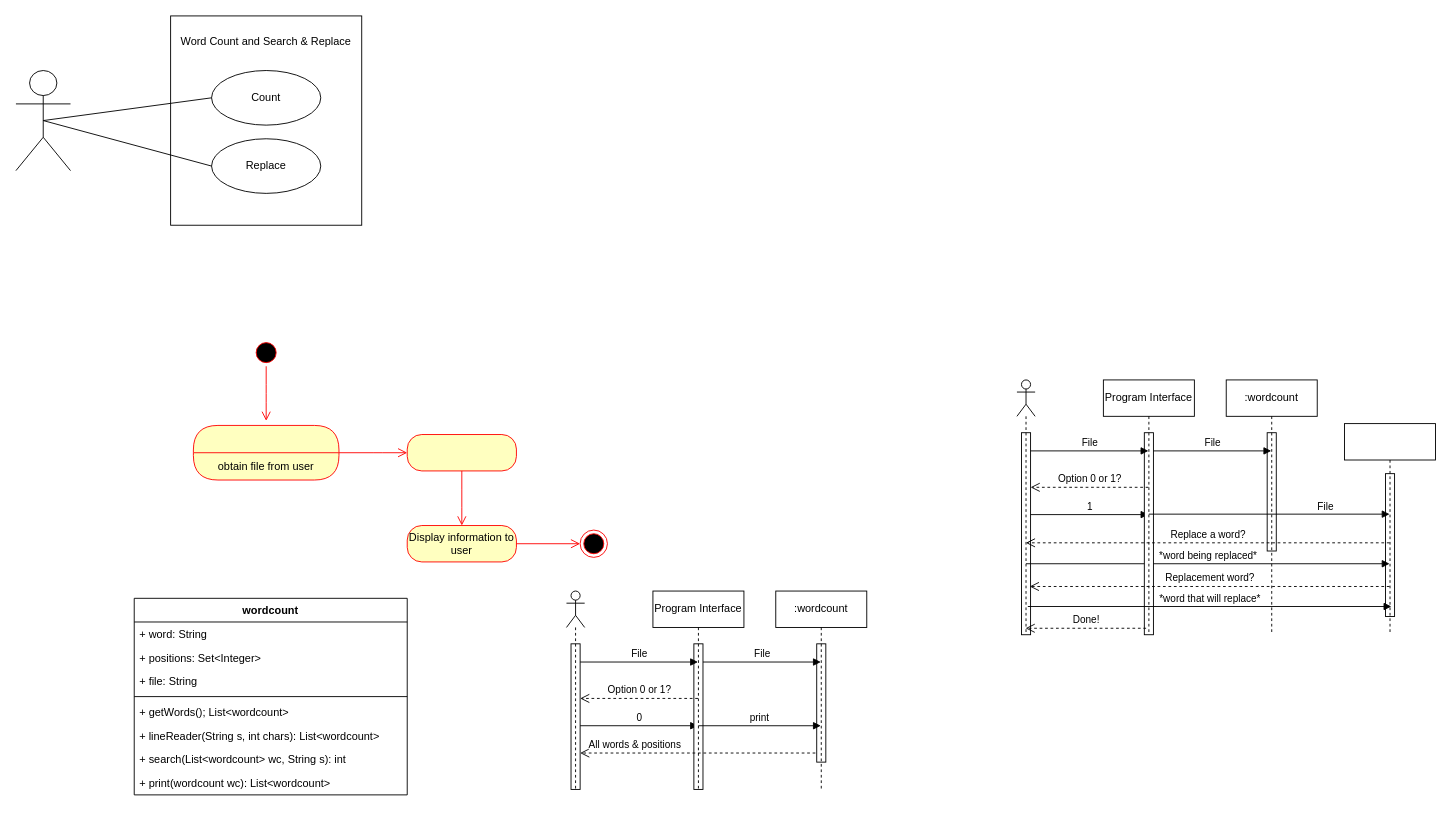
This 1451x814 diagram has some shape labels left out. The shapes that lost their labels are listed below. From the top down, each one's box as (x1, y1, x2, y2) in pixels, then its label:
(15, 70, 71, 171): User
(192, 425, 339, 480): GetFile
(406, 434, 516, 471): Get list of words and their positions
(1344, 423, 1436, 635): :replace
